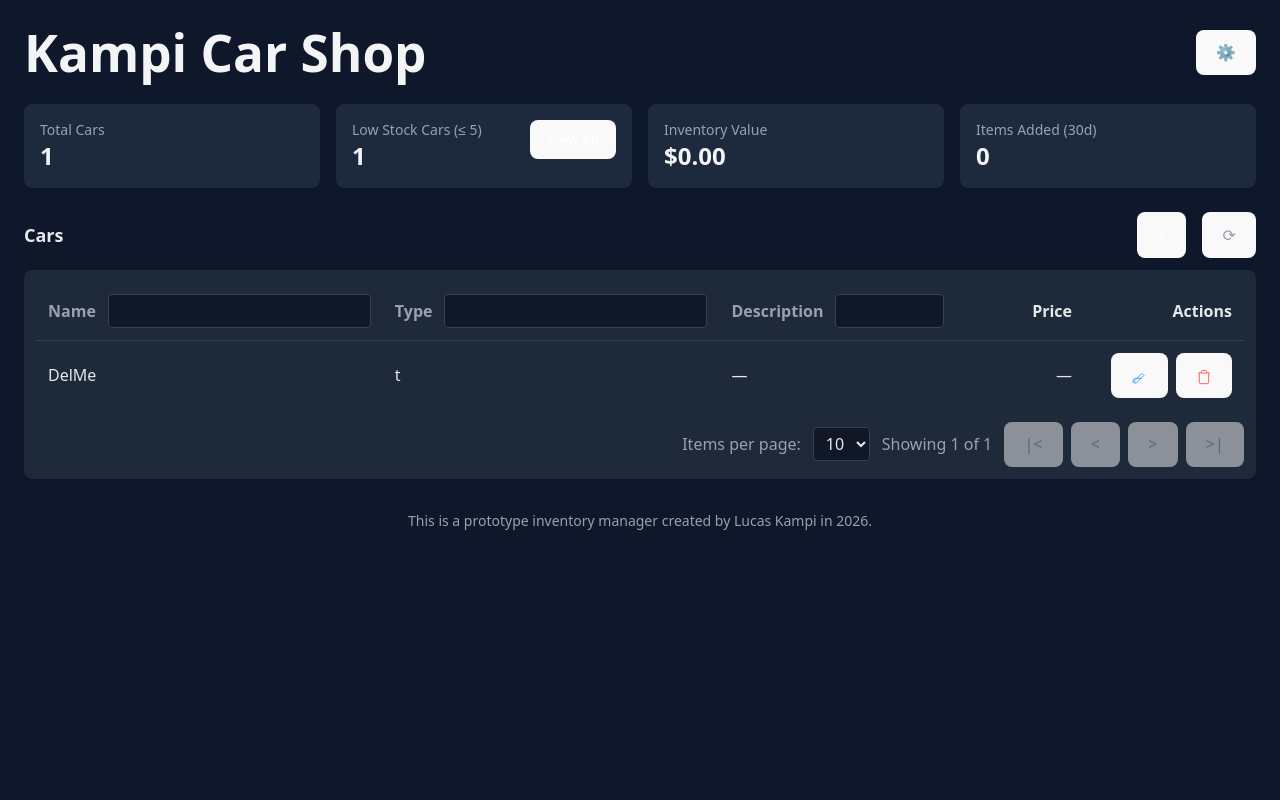
Scenario: delete flow: confirm true deletes and removes entity; confirm false does nothing
Expected: the text "DelMe" is shown, [36,340,383,410]
Click the button titled "Delete": x=1204, y=375 [1176,352,1232,398]
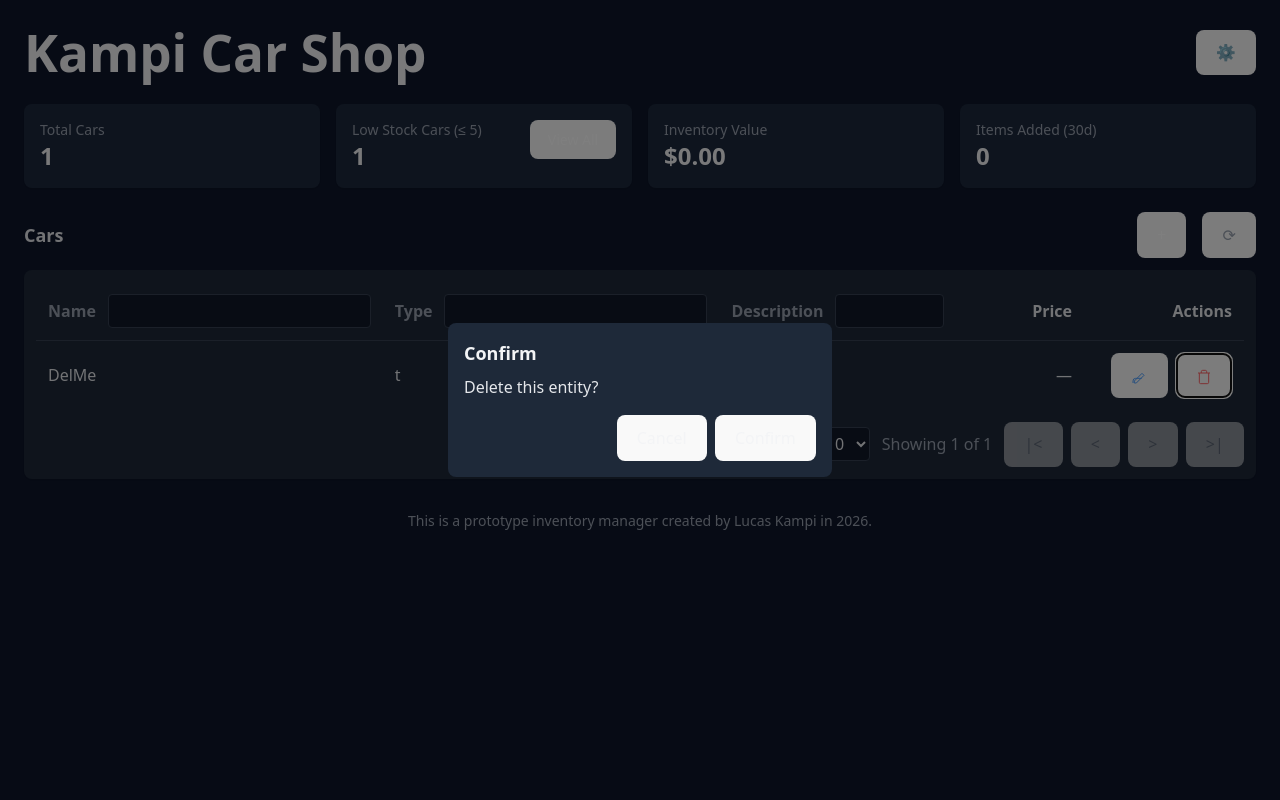
Result: the dialog with test id "confirm-dialog" is shown
Click the button "Cancel": x=662, y=438 [616,415,707,461]
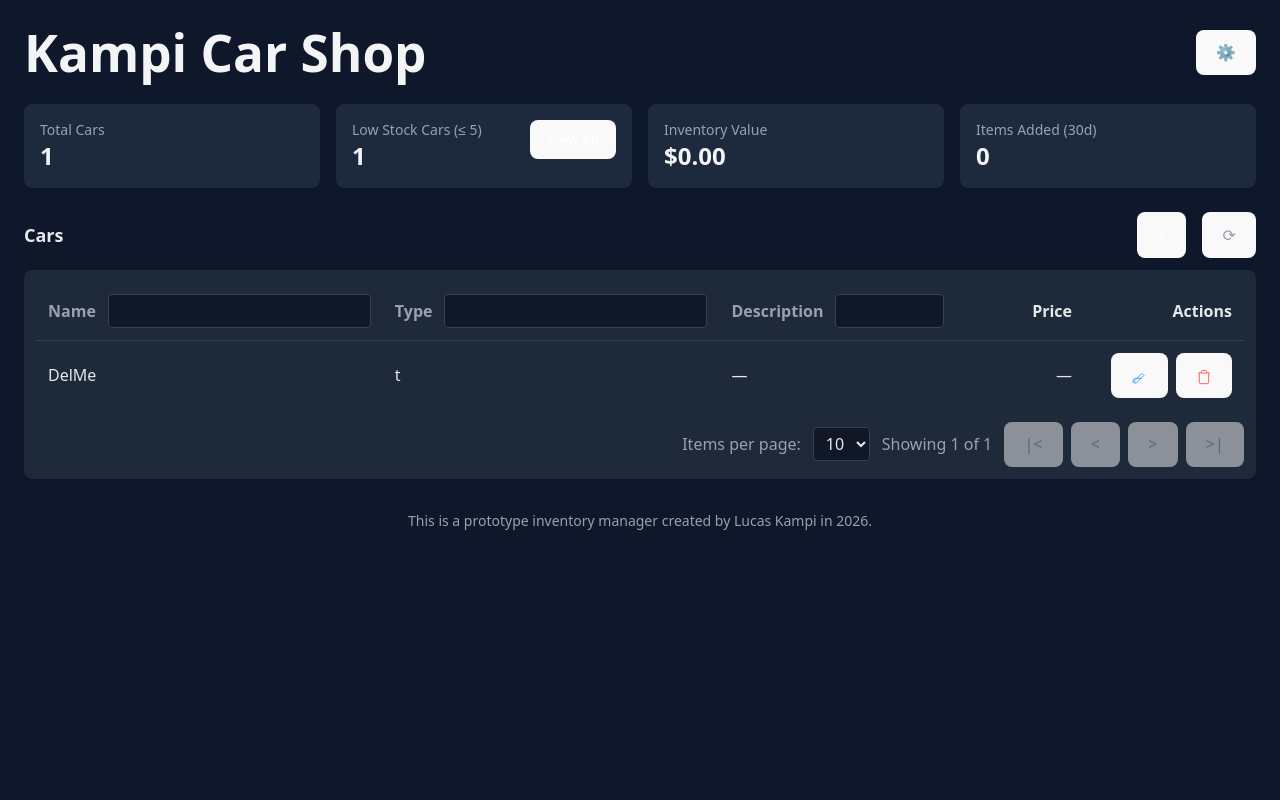
Click the button titled "Delete": x=1204, y=375 [1176,352,1232,398]
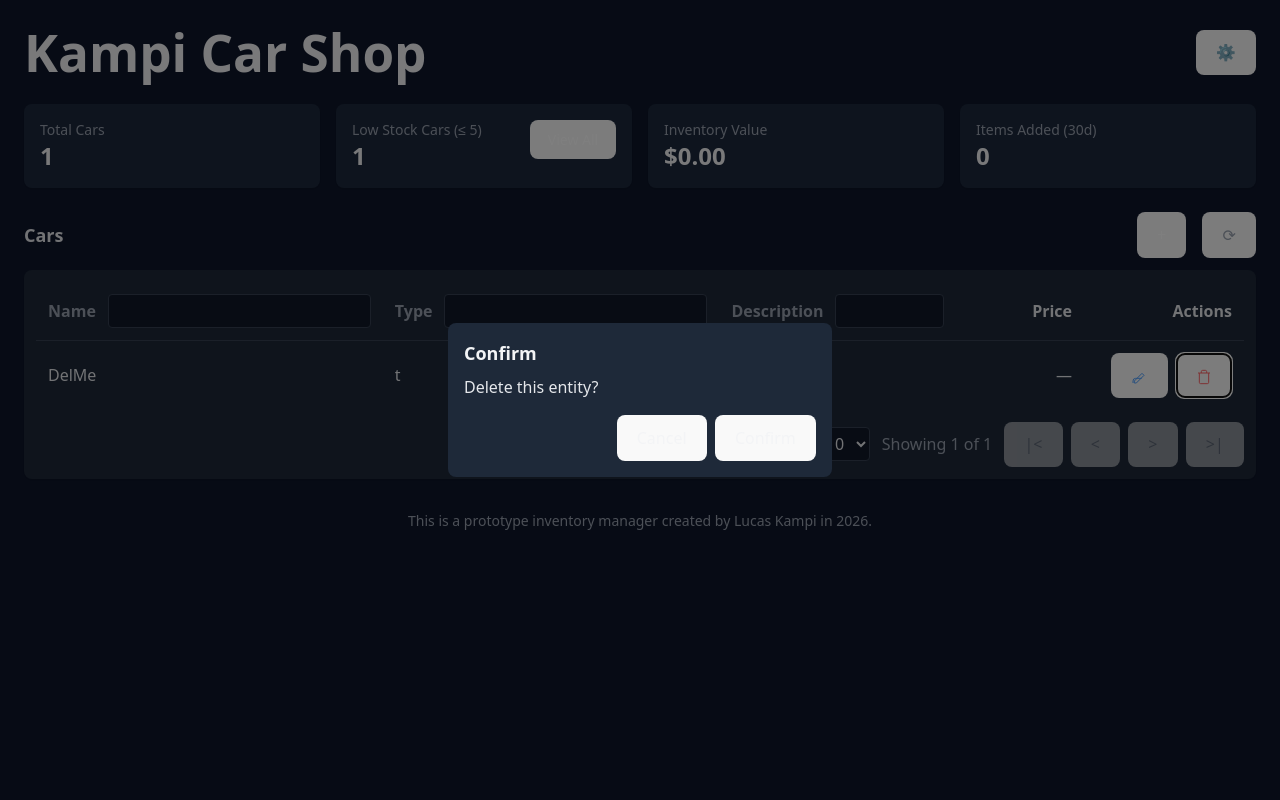
Result: the dialog with test id "confirm-dialog" is shown
Click the button "Confirm": x=765, y=438 [715,415,816,461]
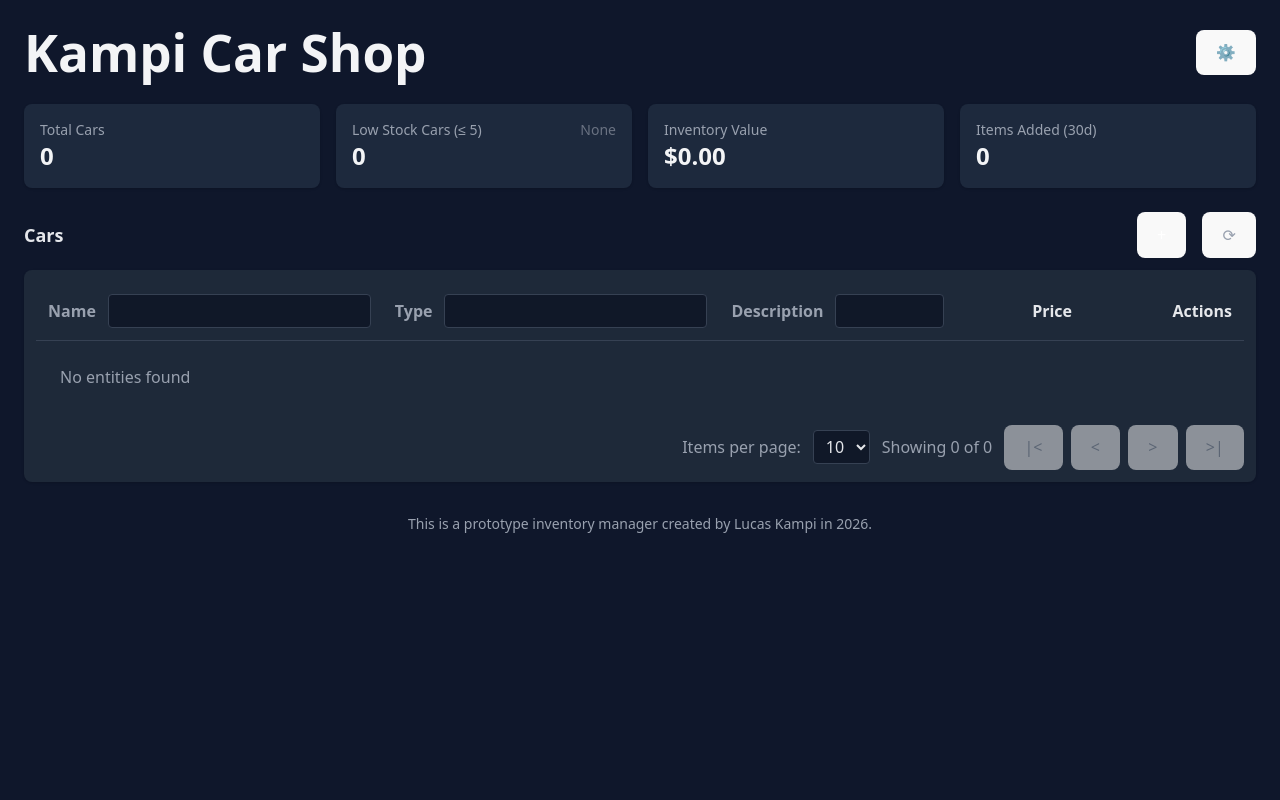
Result: the text "DelMe" is gone
